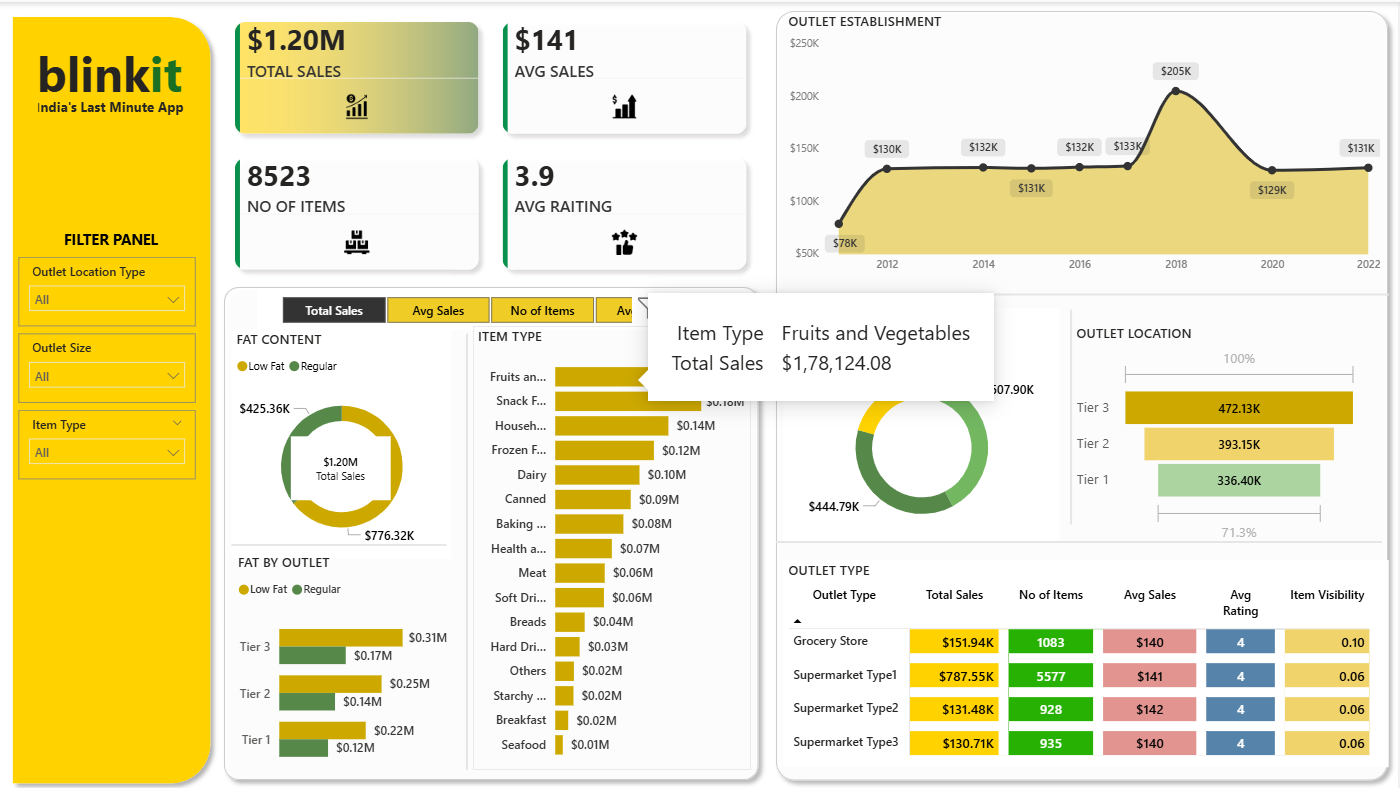

Layout of this report page (visuals, bound fields, positions):
{"tool":"powerbi","page":{"name":"Page 1","canvas":[1400,800],"ordinal":0},"visuals":[{"type":"shape","box":[0,15,216.3,785.5],"z":0},{"type":"textbox","box":[32.8,32.8,167.5,79.4],"z":1000},{"type":"textbox","box":[32.8,89.8,200.3,43.2],"z":2000},{"type":"textbox","box":[258.3,186.2,204.3,563.2],"z":3000},{"type":"cardVisual","fields":{"Data":["BlinkIT Grocery Data.Total Sales","BlinkIT Grocery Data.Avg Sales","BlinkIT Grocery Data.No of Items","BlinkIT Grocery Data.Avg Rating"]},"box":[217,0,553.2,288.2],"z":4000},{"type":"shape","box":[217,276.6,553.2,511.8],"z":5000},{"type":"donutChart","title":"FAT CONTENT","fields":{"Y":["BlinkIT Grocery Data.Total Sales"],"Category":["BlinkIT Grocery Data.Item Fat Content"]},"box":[233.5,327.9,220.3,230.2],"z":6000},{"type":"slicer","fields":{"Values":["Metrics.Metrics"]},"box":[258.4,288.2,465.4,39.7],"z":7000},{"type":"cardVisual","fields":{"Data":["BlinkIT Grocery Data.Total Sales"]},"box":[286.5,428.9,111,74.5],"z":8000},{"type":"clusteredBarChart","title":"FAT BY OUTLET","fields":{"Y":["BlinkIT Grocery Data.Total Sales"],"Category":["BlinkIT Grocery Data.Outlet Location Type"],"Series":["BlinkIT Grocery Data.Item Fat Content"]},"box":[234.3,551.2,219.3,229.8],"z":9000},{"type":"shape","box":[233.5,536.6,215.3,14.9],"z":10000},{"type":"shape","box":[462.6,331.9,12,437.1],"z":11000},{"type":"barChart","title":"ITEM TYPE","fields":{"Y":["BlinkIT Grocery Data.Total Sales"],"Category":["BlinkIT Grocery Data.Item Type"]},"box":[475.3,324.6,276.6,443.9],"z":12000},{"type":"shape","box":[769,0,630.8,788.5],"z":13000},{"type":"lineChart","title":"OUTLET ESTABLISHMENT","fields":{"Y":["BlinkIT Grocery Data.Total Sales"],"Category":["BlinkIT Grocery Data.Outlet Establishment Year"]},"box":[785.5,9,602.3,270.3],"z":14000},{"type":"shape","box":[785,276.6,606.2,33.1],"z":15000},{"type":"donutChart","title":"OUTLET SIZE","fields":{"Y":["BlinkIT Grocery Data.Total Sales"],"Category":["BlinkIT Grocery Data.Outlet Size"]},"box":[785.5,306.4,276.4,234.3],"z":16000},{"type":"shape","box":[1061.6,308,23.2,215.3],"z":17000},{"type":"funnel","title":"OUTLET LOCATION","fields":{"Category":["BlinkIT Grocery Data.Outlet Location Type"],"Y":["Sum(BlinkIT Grocery Data.Sales)"]},"box":[1073.2,321.3,291.5,223.6],"z":18000},{"type":"shape","box":[778,524.2,606.8,33],"z":19000},{"type":"pivotTable","title":"OUTLET TYPE","fields":{"Rows":["BlinkIT Grocery Data.Outlet Type"],"Values":["BlinkIT Grocery Data.Total Sales","BlinkIT Grocery Data.No of Items","BlinkIT Grocery Data.Avg Sales","BlinkIT Grocery Data.Avg Rating","Avg(BlinkIT Grocery Data.Item Visibility)"]},"box":[785,558.1,606.2,207],"z":20000},{"type":"slicer","fields":{"Values":["BlinkIT Grocery Data.Outlet Location Type"]},"box":[19.9,255,177.2,69.6],"z":21000},{"type":"slicer","fields":{"Values":["BlinkIT Grocery Data.Outlet Size"]},"box":[19.9,331.2,177.2,69.6],"z":22000},{"type":"slicer","fields":{"Values":["BlinkIT Grocery Data.Item Type"]},"box":[19.9,409.1,177.2,69.6],"z":23000},{"type":"textbox","box":[60.1,222.3,105.1,33],"z":24000}]}

Visuals, with their boxes in screenshot pixels (x1, y1, x2, y2), scaled from the page's 1400x800 canvas onto the 1400x788 screenshot:
shape: {"left": 0, "top": 15, "right": 216, "bottom": 787}
textbox: {"left": 33, "top": 32, "right": 200, "bottom": 111}
textbox: {"left": 33, "top": 88, "right": 233, "bottom": 131}
textbox: {"left": 258, "top": 183, "right": 463, "bottom": 738}
cardVisual - BlinkIT Grocery Data.Total Sales x BlinkIT Grocery Data.Avg Sales: {"left": 217, "top": 0, "right": 770, "bottom": 284}
shape: {"left": 217, "top": 272, "right": 770, "bottom": 777}
"FAT CONTENT" donutChart: {"left": 234, "top": 323, "right": 454, "bottom": 550}
slicer - Metrics.Metrics: {"left": 258, "top": 284, "right": 724, "bottom": 323}
cardVisual - BlinkIT Grocery Data.Total Sales: {"left": 286, "top": 422, "right": 398, "bottom": 496}
"FAT BY OUTLET" clusteredBarChart: {"left": 234, "top": 543, "right": 454, "bottom": 769}
shape: {"left": 234, "top": 529, "right": 449, "bottom": 543}
shape: {"left": 463, "top": 327, "right": 475, "bottom": 757}
"ITEM TYPE" barChart: {"left": 475, "top": 320, "right": 752, "bottom": 757}
shape: {"left": 769, "top": 0, "right": 1399, "bottom": 777}
"OUTLET ESTABLISHMENT" lineChart: {"left": 786, "top": 9, "right": 1388, "bottom": 275}
shape: {"left": 785, "top": 272, "right": 1391, "bottom": 305}
"OUTLET SIZE" donutChart: {"left": 786, "top": 302, "right": 1062, "bottom": 533}
shape: {"left": 1062, "top": 303, "right": 1085, "bottom": 515}
"OUTLET LOCATION" funnel: {"left": 1073, "top": 316, "right": 1365, "bottom": 537}
shape: {"left": 778, "top": 516, "right": 1385, "bottom": 549}
"OUTLET TYPE" pivotTable: {"left": 785, "top": 550, "right": 1391, "bottom": 754}
slicer - BlinkIT Grocery Data.Outlet Location Type: {"left": 20, "top": 251, "right": 197, "bottom": 320}
slicer - BlinkIT Grocery Data.Outlet Size: {"left": 20, "top": 326, "right": 197, "bottom": 395}
slicer - BlinkIT Grocery Data.Item Type: {"left": 20, "top": 403, "right": 197, "bottom": 472}
textbox: {"left": 60, "top": 219, "right": 165, "bottom": 251}
